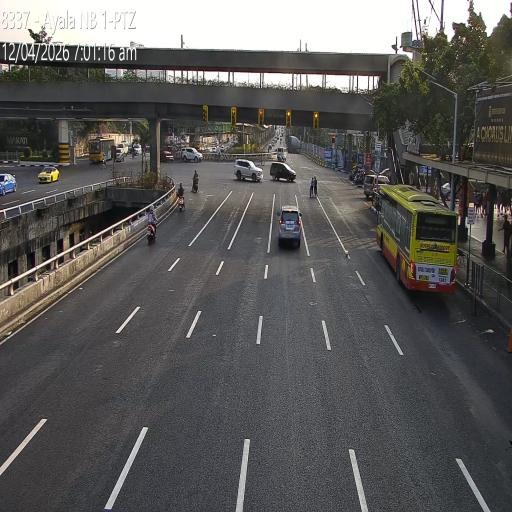Car: (276, 200, 304, 256), (364, 174, 390, 200), (235, 158, 262, 182), (270, 161, 296, 182), (38, 164, 60, 184), (0, 173, 17, 196), (181, 148, 203, 162), (117, 140, 129, 156), (160, 148, 174, 161), (115, 146, 125, 162), (277, 147, 287, 161), (132, 144, 142, 156), (218, 145, 227, 153), (268, 143, 273, 151)
Motor: (147, 204, 158, 244), (347, 163, 359, 183), (354, 166, 364, 189), (178, 182, 185, 212), (193, 169, 199, 191), (102, 152, 107, 168)
Not Accident: (87, 135, 145, 170), (347, 161, 390, 202)
